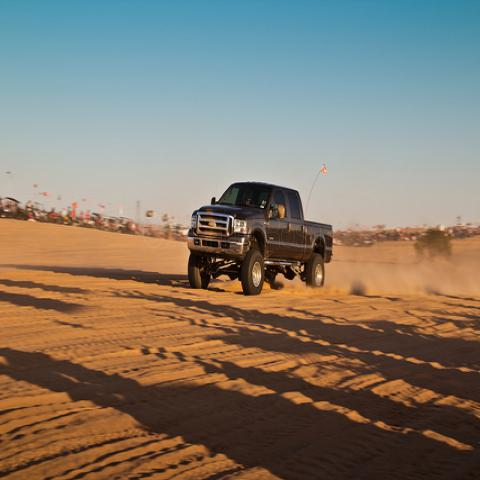car: (413, 229, 453, 263), (95, 216, 122, 230), (355, 235, 375, 249), (400, 231, 412, 241)
truck: (188, 183, 335, 295)
